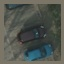car: (22, 44, 54, 61), (18, 26, 47, 43)
